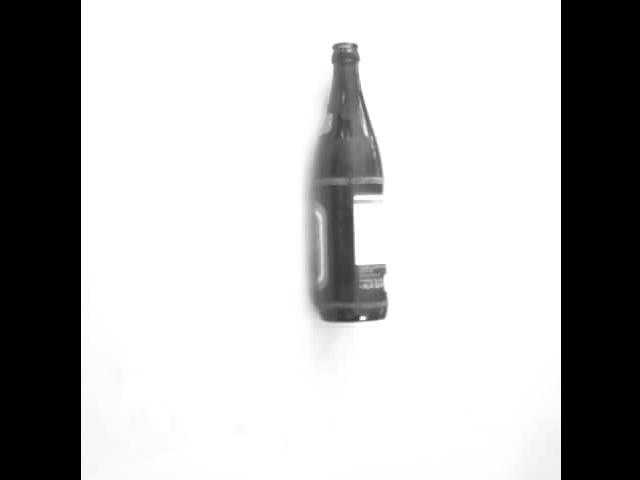Glass: (302, 41, 391, 325)
